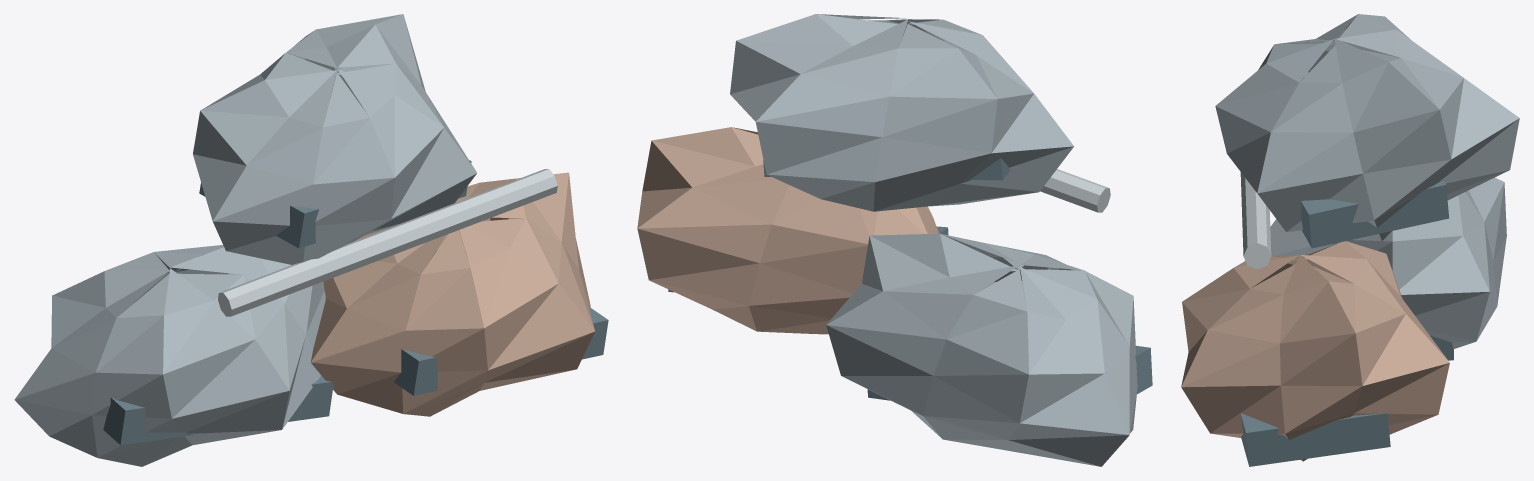
File: alloy_low.gltf
The picture shows the model from 3 angles, left to right: view 1: azimuth 30°, elevation 25°; view 2: azimuth 150°, elevation 25°; view 3: azimuth 270°, elevation 25°; orthographic projection.
Parts seen in each view (by area): view 1: alloy_low; view 2: alloy_low; view 3: alloy_low.
Boxes of the visible parts, x1,y1,x2,y2 form: alloy_low: (14, 14, 608, 466); alloy_low: (637, 14, 1152, 466); alloy_low: (1181, 14, 1519, 466).
Size of the model in its own units: 1.53 by 1.06 by 0.8508.
